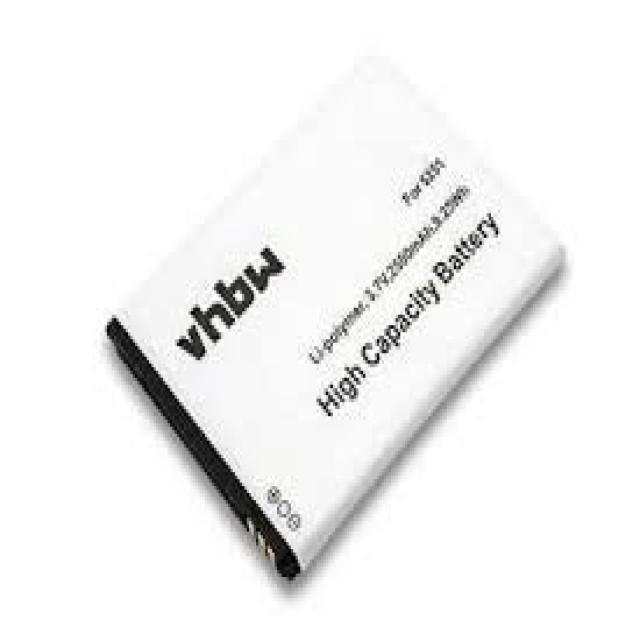Battery: (101, 24, 574, 602)
